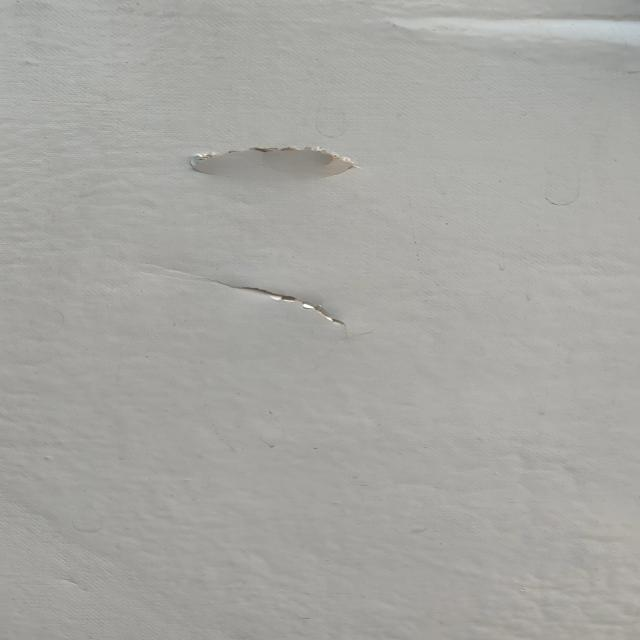Dents or Deformation: (365, 1, 640, 49)
Scratches: (179, 273, 436, 338), (151, 124, 377, 187)
